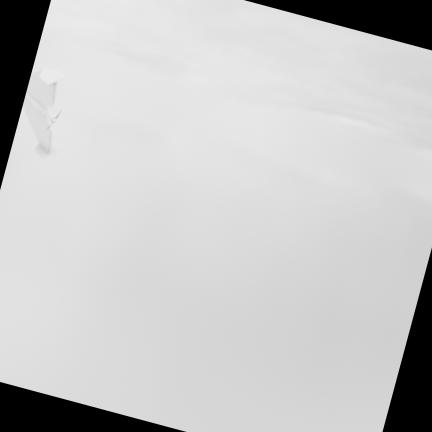Shahed: (23, 68, 64, 155)
